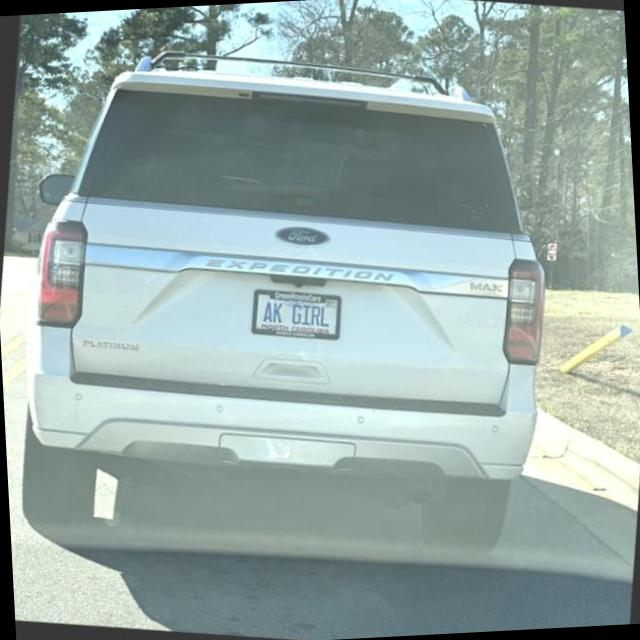LicensePlate: (250, 288, 342, 341)
